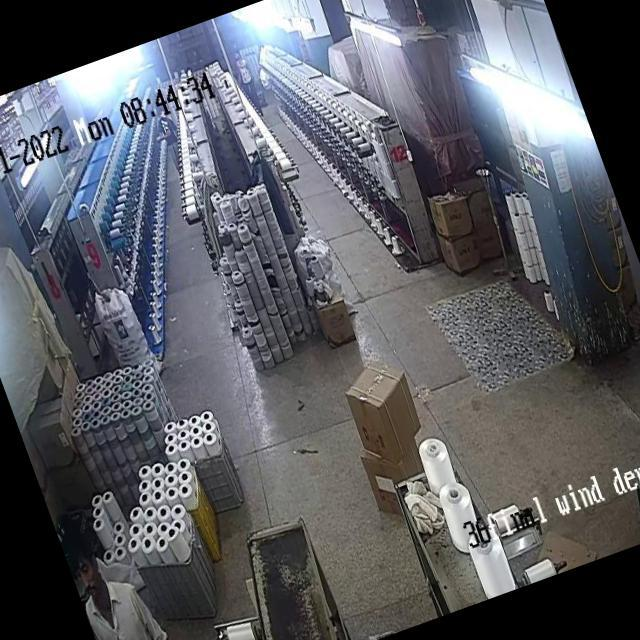person: (56, 505, 201, 640), (232, 48, 262, 102), (148, 105, 181, 152)
